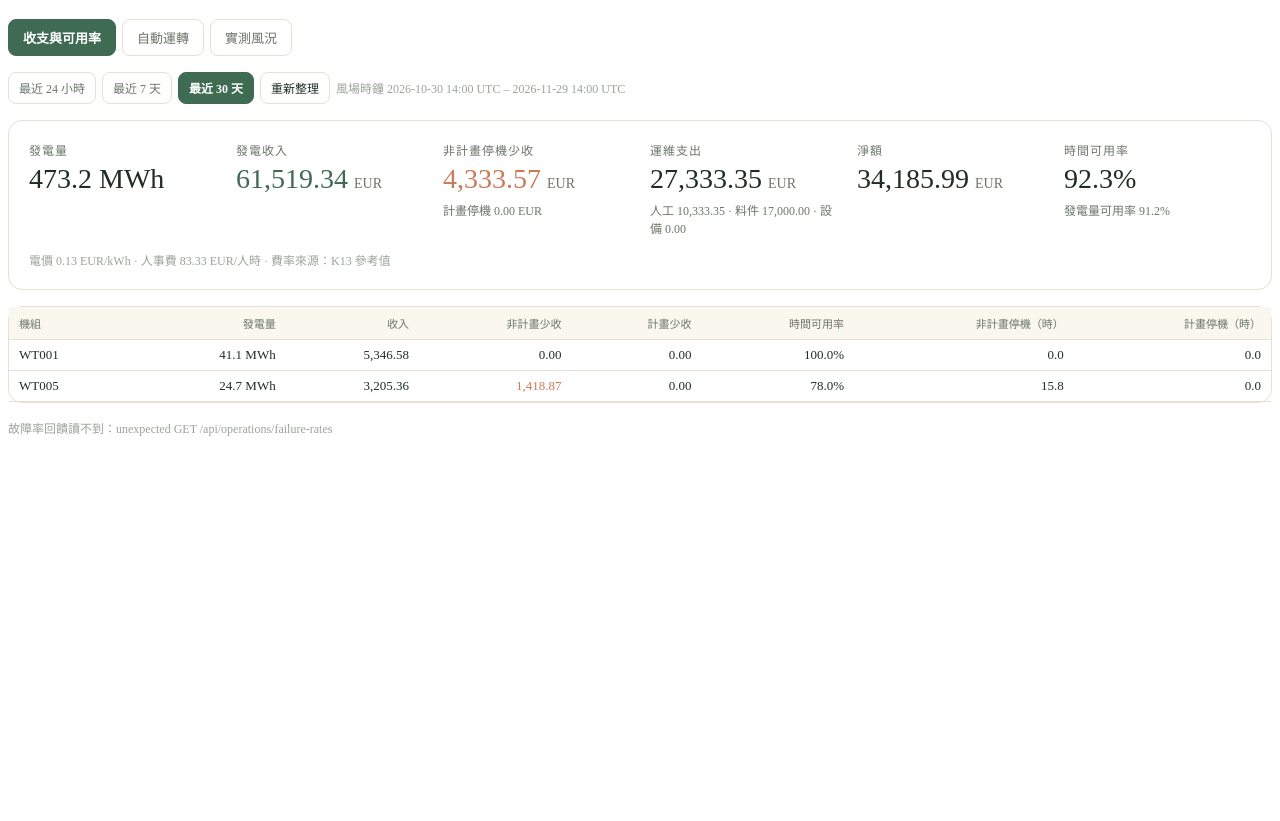
Scenario: 自動運轉 › 自動定檢計畫：週期不是 1–730 的整數時不送
Click the button "自動運轉" at (163, 37), box [122,19,204,56]
(page scrolled)
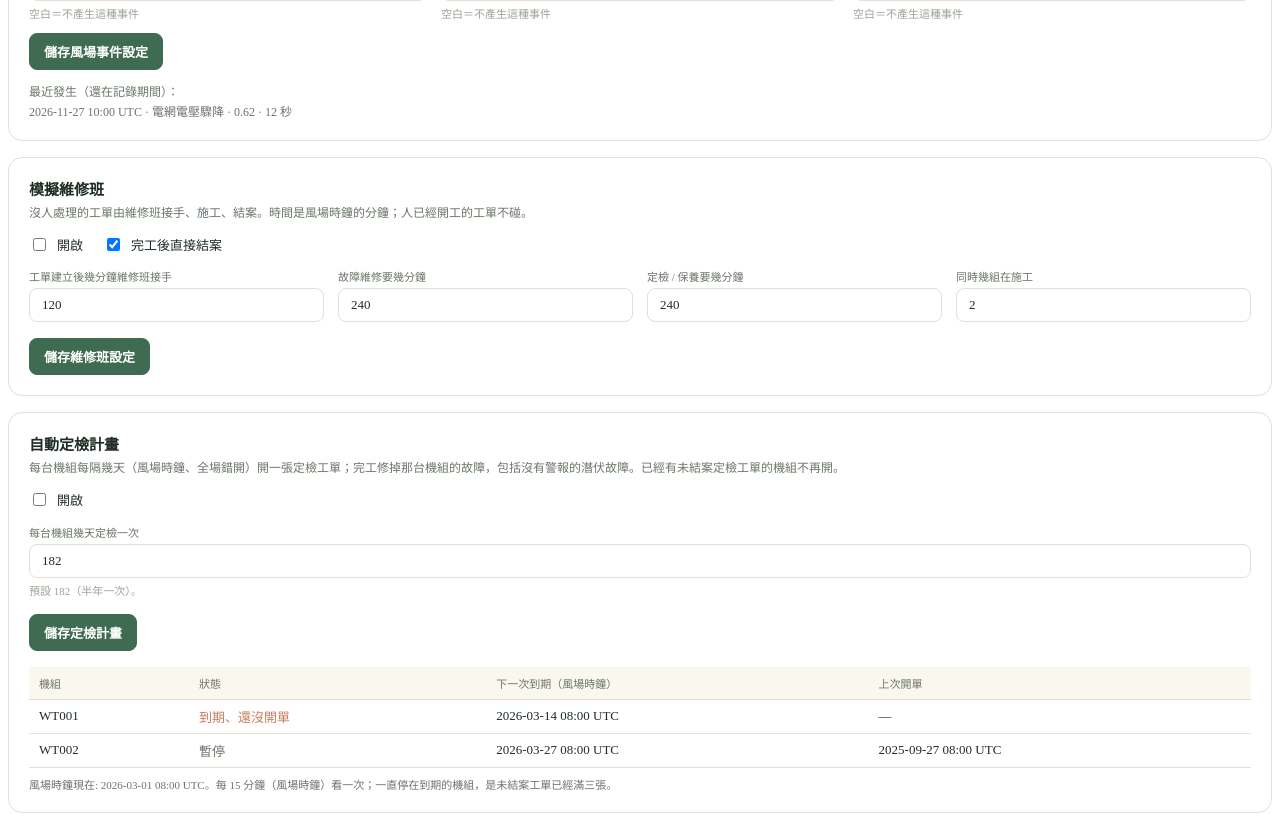
Replace the text in the number field labelled "每台機組幾天定檢一次" with "0" at (640, 561), box [29,544,1251,578]
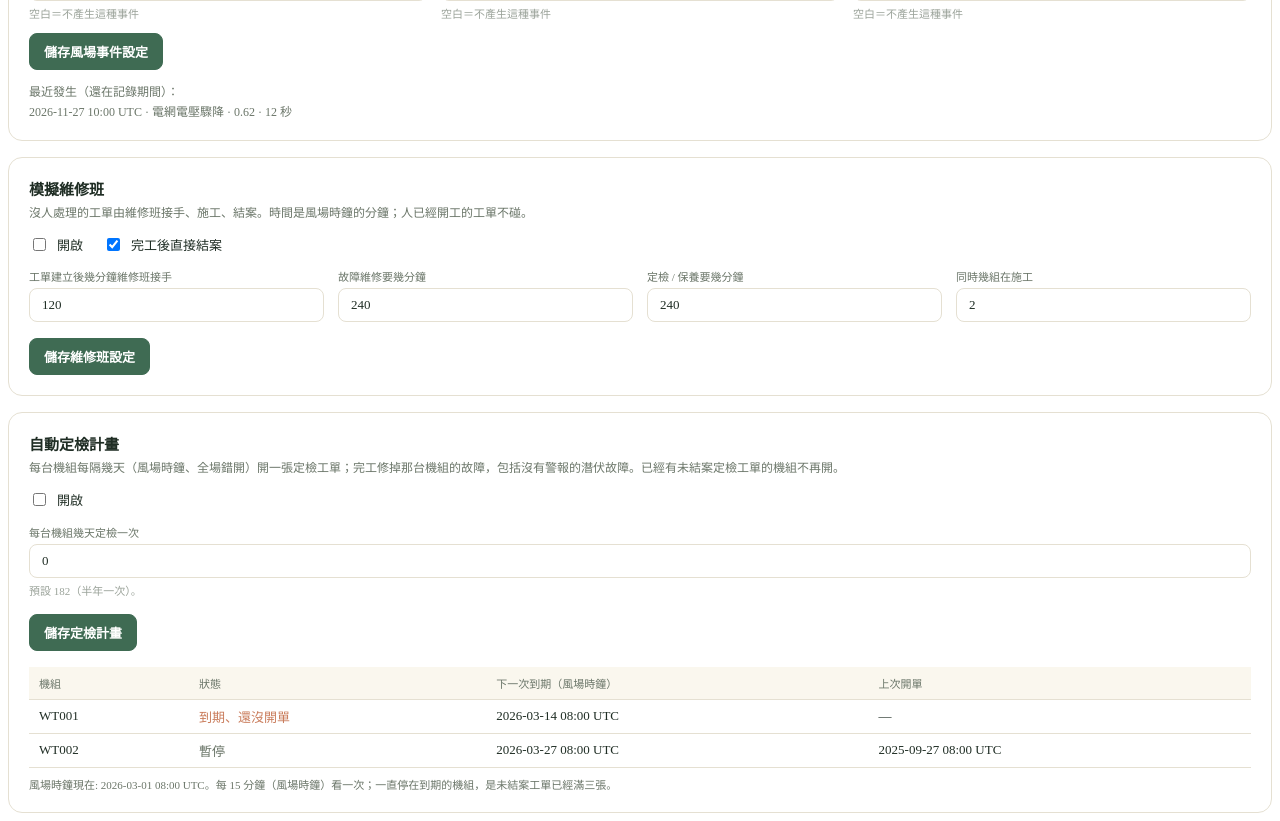
Click the button "儲存定檢計畫" at (83, 632), box [29,614,137,651]
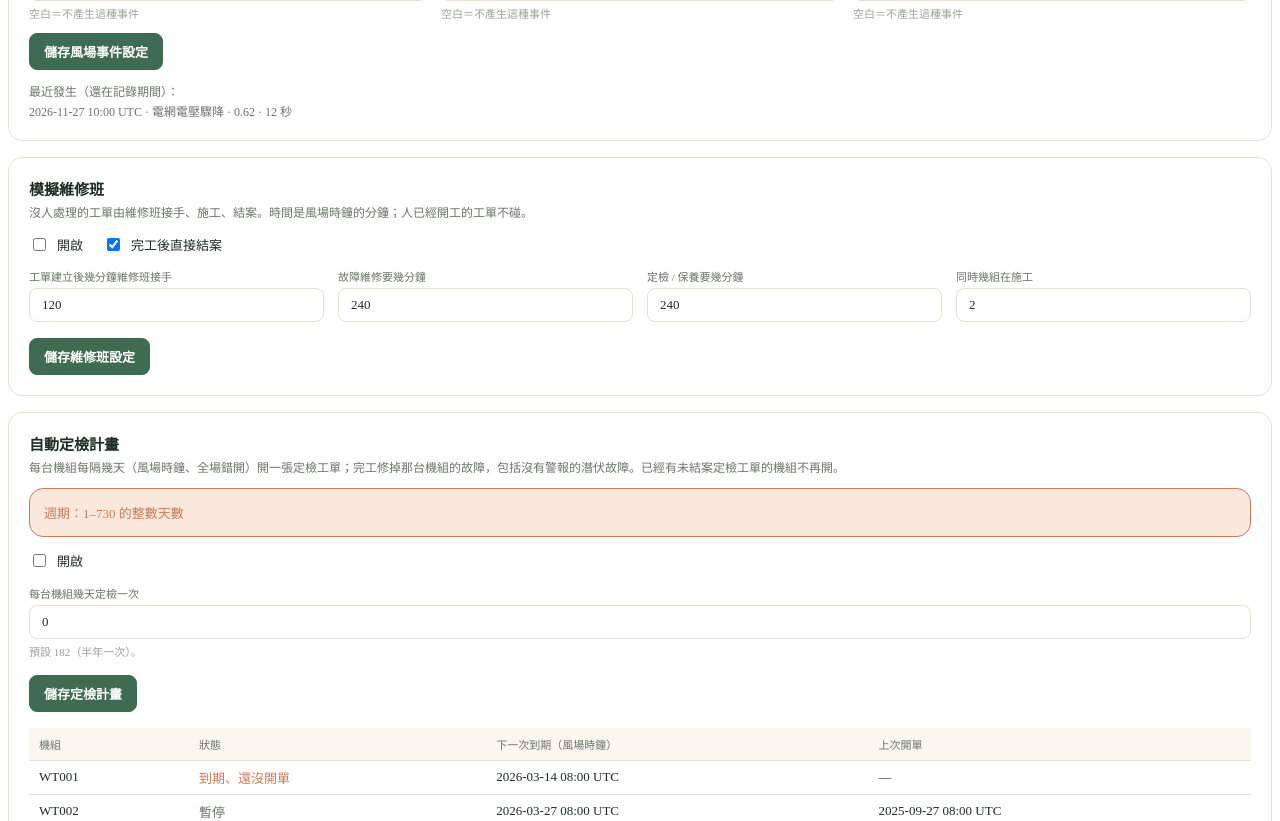
Result: the message shows "1–730 的整數天數" at [44,506,184,521]
